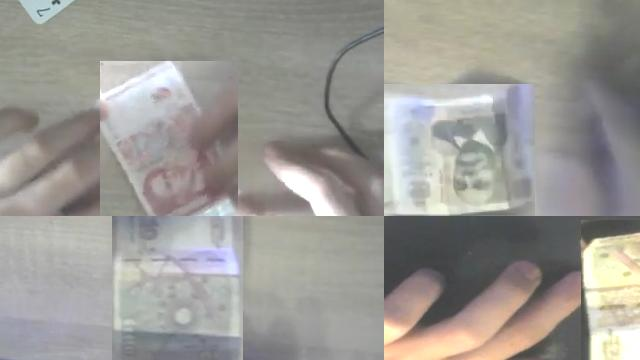10leva: (384, 84, 535, 216), (112, 216, 243, 360), (581, 234, 640, 360)
5leva: (100, 61, 238, 216)
